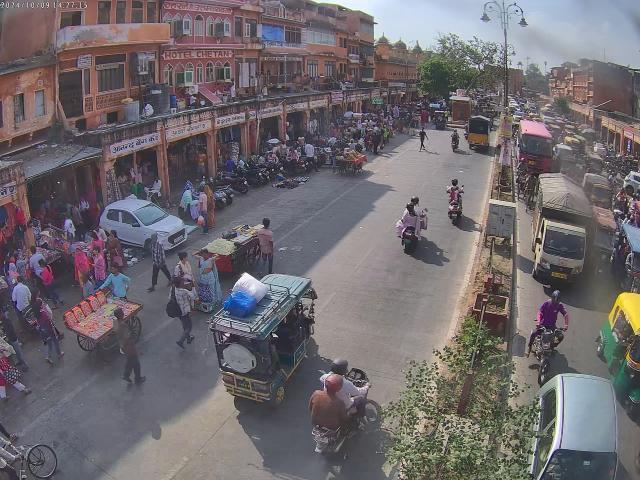auto: (206, 271, 320, 416), (597, 290, 640, 411), (589, 205, 618, 282), (612, 222, 640, 292), (466, 114, 494, 153), (583, 172, 612, 208)
bicycle-rider: (0, 412, 57, 480)
bus: (516, 129, 556, 168)
car: (530, 368, 620, 480), (98, 196, 188, 252)
helmet: (322, 372, 346, 398), (330, 358, 350, 375), (408, 196, 420, 207), (551, 291, 562, 301), (450, 177, 460, 186)
license_plate: (550, 271, 569, 280), (172, 234, 184, 244)
lorry: (530, 174, 588, 286)
motorbike: (246, 166, 270, 186)
motorbike-rider: (306, 358, 372, 468), (528, 289, 570, 380)
person: (111, 306, 148, 386), (168, 274, 196, 348), (33, 298, 64, 364), (192, 249, 220, 310), (172, 251, 195, 312), (148, 232, 171, 288), (38, 258, 64, 307), (255, 217, 277, 274), (195, 183, 218, 231), (102, 262, 130, 300), (178, 180, 198, 215), (91, 248, 105, 284), (74, 246, 88, 281), (418, 126, 429, 152)
scooty-rider: (394, 196, 428, 252), (11, 276, 36, 333), (445, 178, 466, 225), (449, 130, 460, 152)
vendor: (62, 285, 144, 357), (200, 221, 268, 276), (336, 149, 368, 175)
